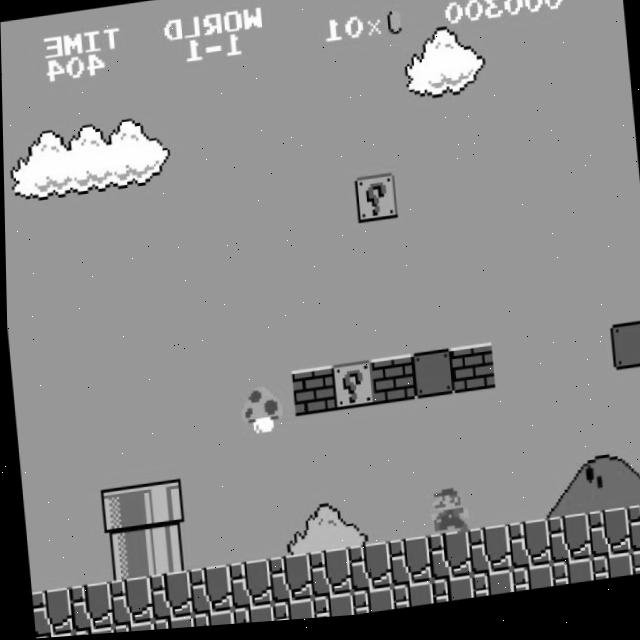1- brick_block: (368, 359, 413, 411), (448, 349, 493, 400), (289, 370, 334, 421)
11- little_mario: (424, 490, 470, 544)
12- mushroom: (238, 385, 285, 439)
13- mystery_block: (329, 364, 374, 416), (352, 178, 397, 228)
14- pipe: (101, 531, 146, 583), (141, 526, 186, 577)
15- pipe_head: (137, 481, 182, 533), (98, 486, 142, 537)
17- undestructible_block: (544, 520, 589, 572), (464, 530, 509, 582), (384, 541, 429, 593), (344, 546, 389, 598), (304, 551, 349, 603), (265, 556, 310, 608), (225, 561, 270, 613), (504, 526, 549, 577), (424, 536, 469, 587), (185, 567, 230, 618), (145, 572, 190, 623), (105, 577, 150, 628), (66, 582, 111, 633), (584, 516, 628, 567), (29, 588, 70, 638), (428, 581, 472, 610), (388, 586, 432, 615), (348, 591, 392, 620), (508, 571, 551, 600), (587, 561, 631, 589), (547, 566, 591, 594), (468, 576, 511, 604), (308, 596, 351, 623), (268, 602, 311, 625), (229, 607, 272, 627), (189, 611, 232, 630), (624, 511, 640, 561), (149, 616, 192, 632), (109, 622, 152, 634), (69, 627, 112, 637), (627, 557, 640, 584)
3- empty_block: (408, 354, 453, 406), (607, 329, 640, 380)
